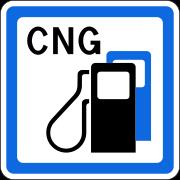Petrol Pump- Gas Station: (12, 12, 167, 168)
